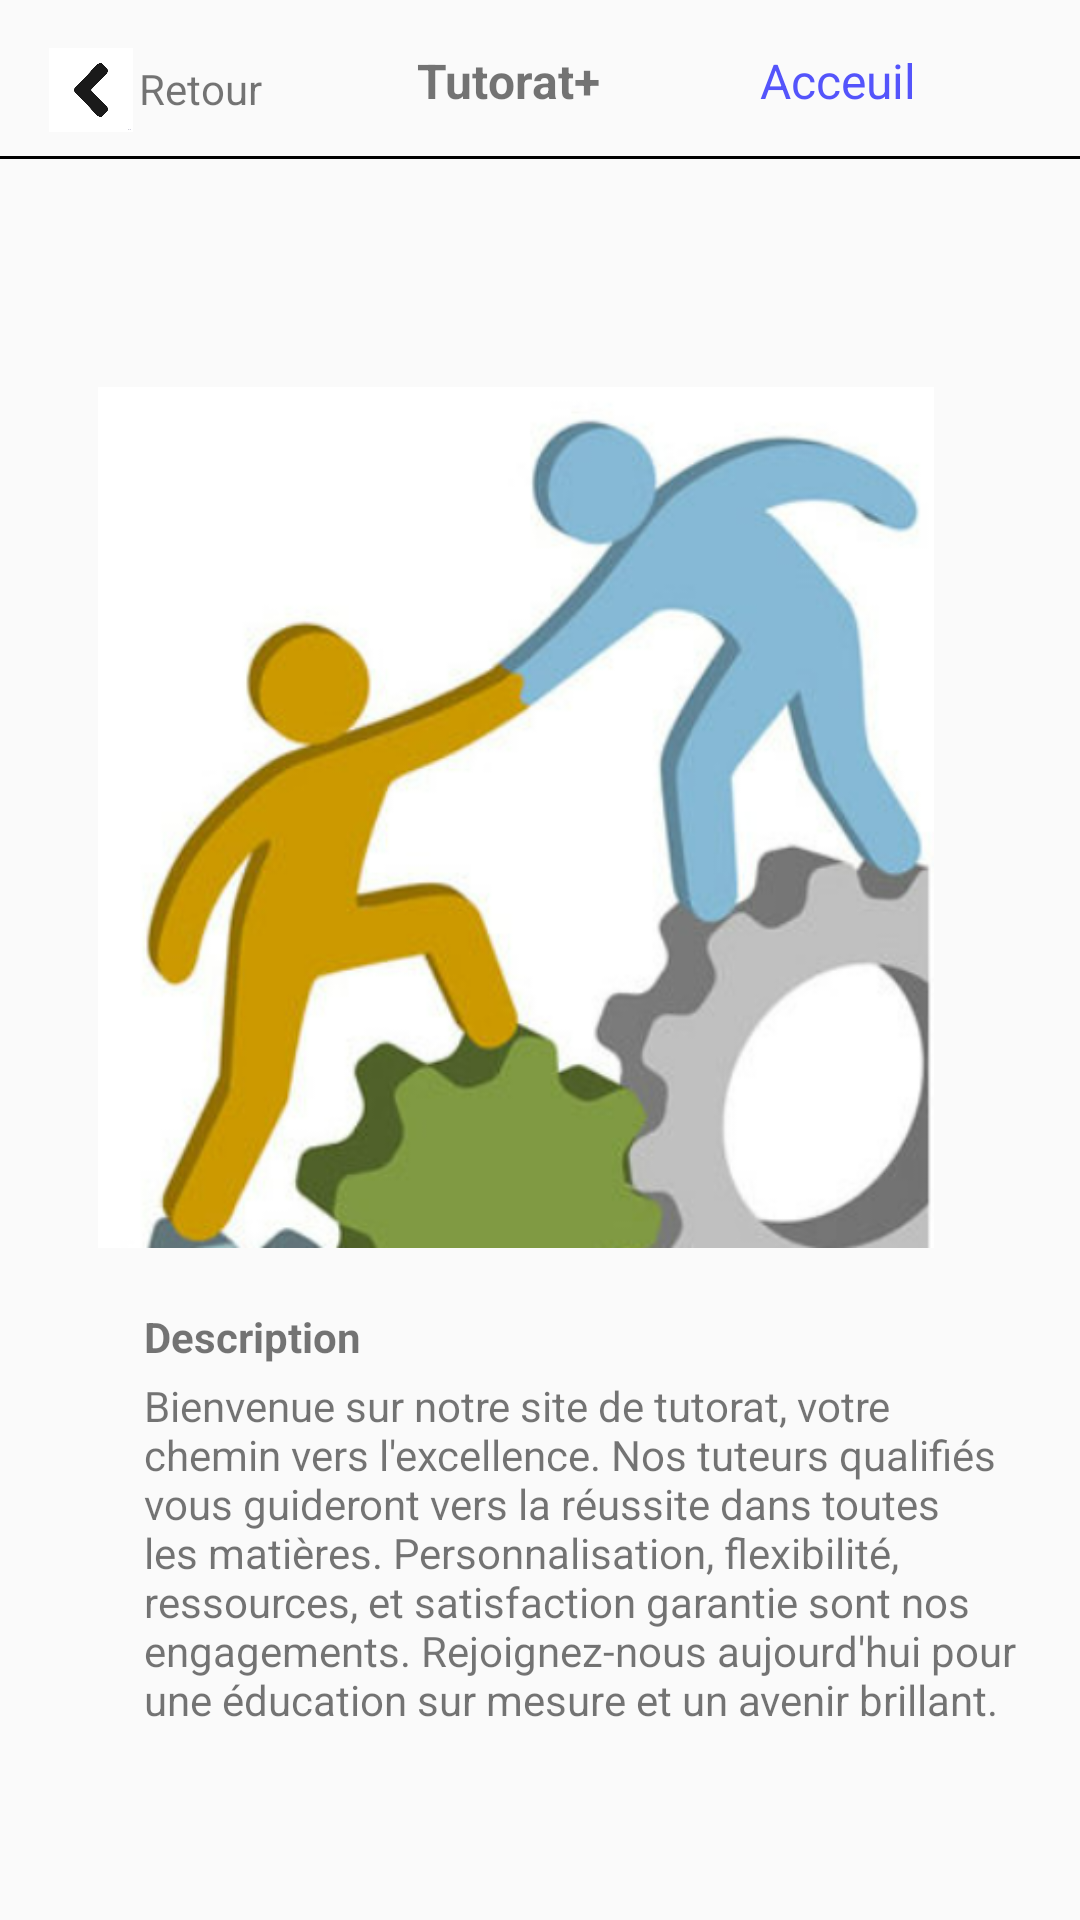

Named icons in this screenshot (1080x1920) and their bounding boxes, (left=x1, top=y1, right=x2, bottom=y2):
flecheback: (left=74, top=63, right=131, bottom=130)
